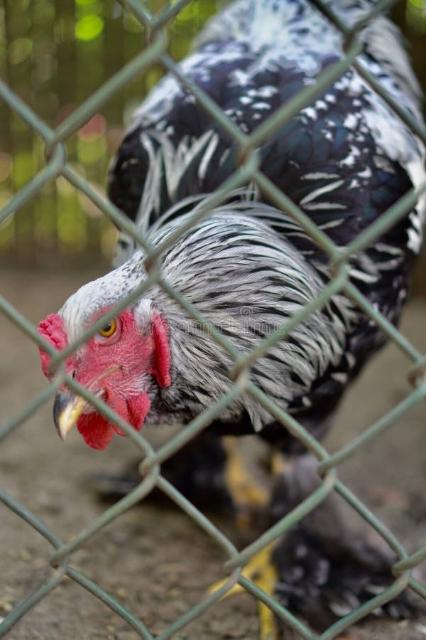Chicken: (42, 0, 426, 640)
